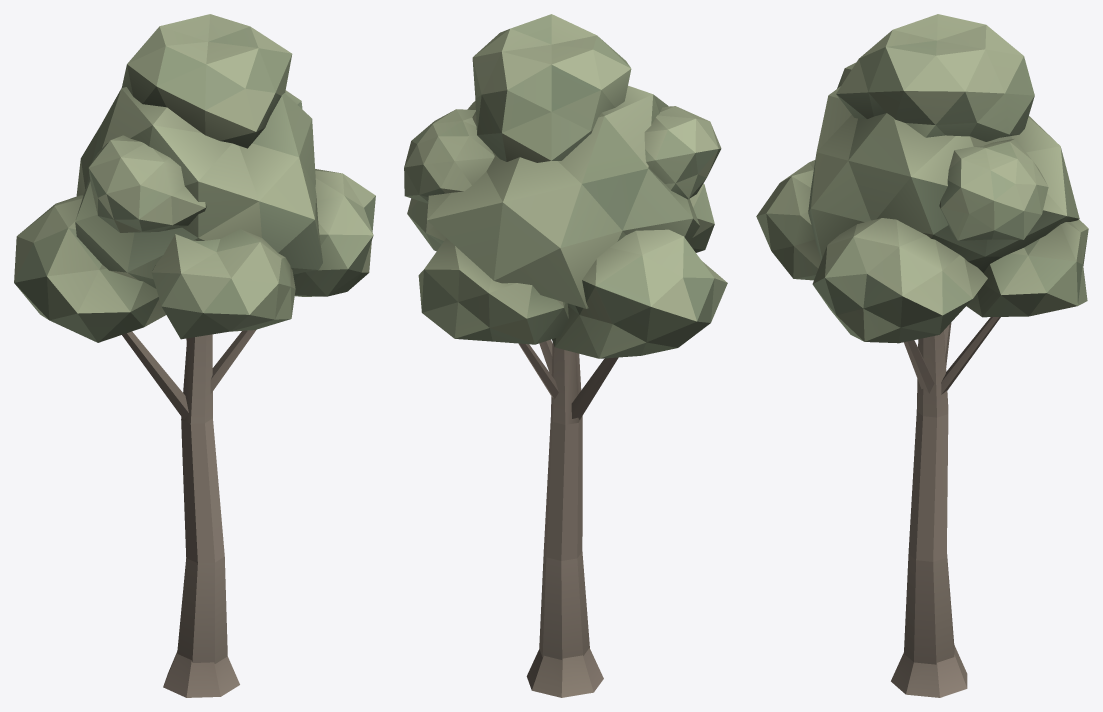
File: tree.glb
3 views of the same model, side by side, from view 1: azimuth 30°, elevation 25°; view 2: azimuth 150°, elevation 25°; view 3: azimuth 270°, elevation 25° (orthographic).
Bounding box in the file's own units: 3.17 × 6.07 × 2.8.
